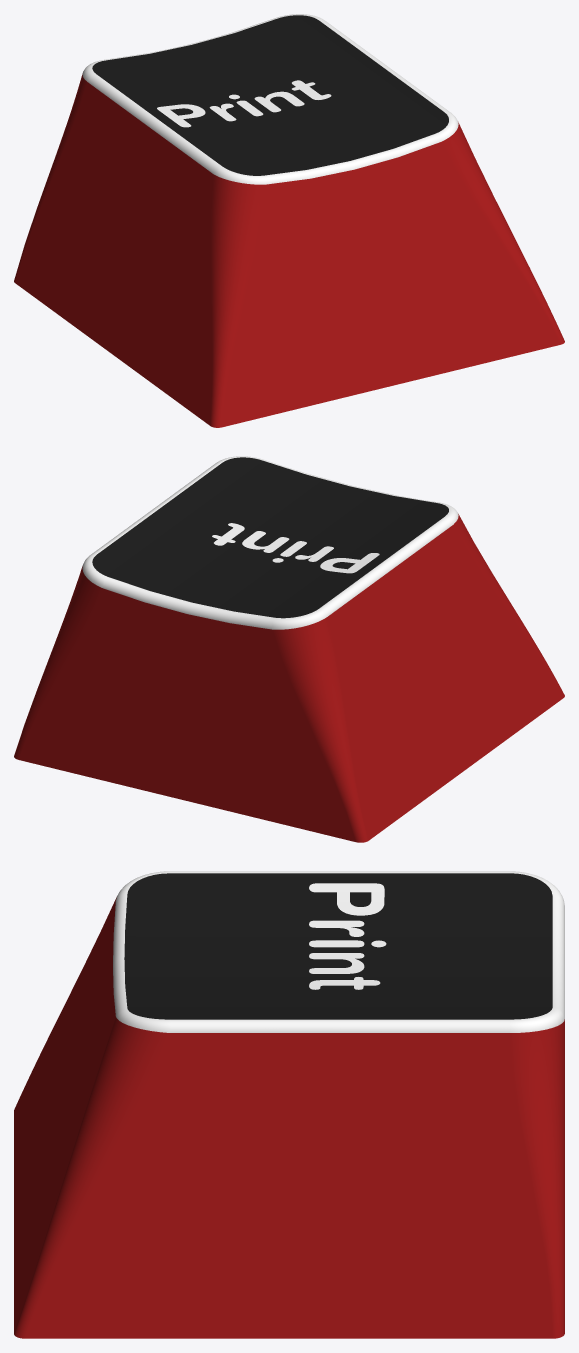
The model's file is Print Mono.fbx.
The picture shows the model from 3 angles, top to bottom: view 1: azimuth 30°, elevation 25°; view 2: azimuth 150°, elevation 25°; view 3: azimuth 270°, elevation 25°; orthographic projection. The views are drawn at different scales.
Parts seen in each view (by area): view 1: Body1; view 2: Body1; view 3: Body1.
Boxes of the visible parts, left/top/right/bottom form: Body1: left=14, top=14, right=564, bottom=427; Body1: left=14, top=456, right=564, bottom=842; Body1: left=14, top=871, right=564, bottom=1338.
Bounding box in the file's own units: 18 × 9.95 × 18.
